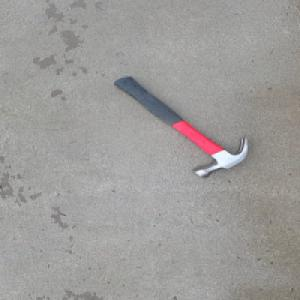Hammer: (112, 76, 251, 178)
